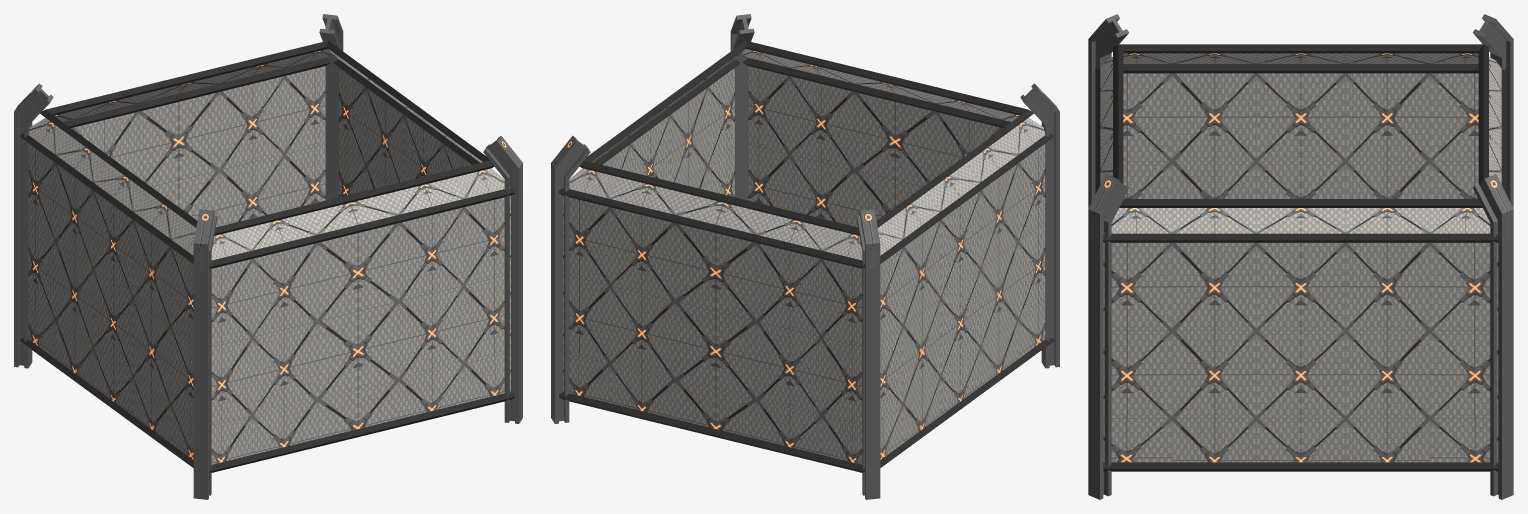
3 renders of one model, left to right at view 1: azimuth 30°, elevation 25°; view 2: azimuth 150°, elevation 25°; view 3: azimuth 270°, elevation 25°, orthographic. The views are drawn at different scales.
Visible parts, largest first — view 1: Plane.006; view 2: Plane.006; view 3: Plane.006.
Boxes of the visible parts, x1,y1,x2,y2 form: Plane.006: (14, 14, 522, 499); Plane.006: (551, 14, 1059, 499); Plane.006: (1088, 14, 1513, 499).
Bounding box in the file's own units: 40.45 × 32.9 × 40.45.
1 material, 1 textured.
